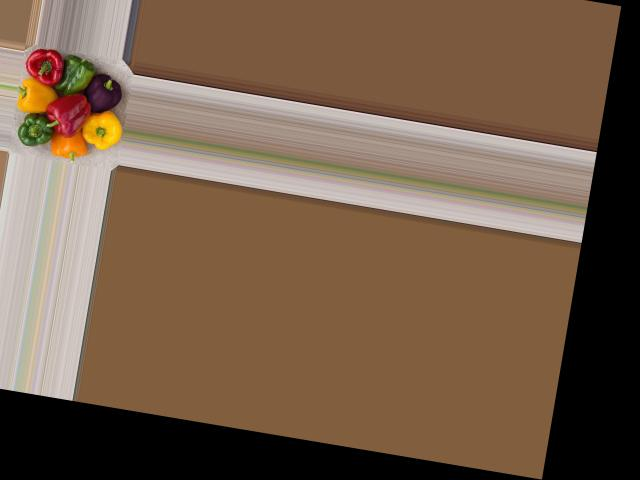bell_pepper: (74, 60, 124, 116)
